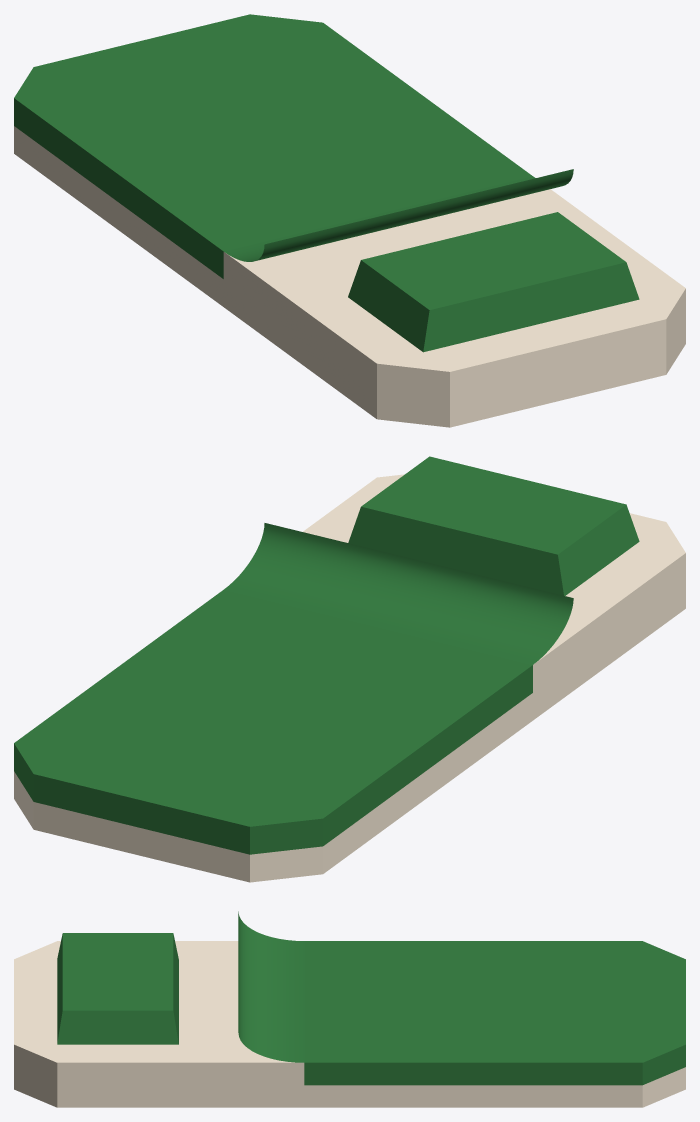
File: bed_floor.glb
3 views of the same model, one above another, from view 1: azimuth 30°, elevation 25°; view 2: azimuth 150°, elevation 25°; view 3: azimuth 270°, elevation 25° (orthographic). The views are drawn at different scales.
Parts seen in each view (by area): view 1: bed_floor; view 2: bed_floor; view 3: bed_floor.
Boxes of the visible parts, <box> form: bed_floor: <box>14,14,685,427</box>; bed_floor: <box>14,456,685,882</box>; bed_floor: <box>14,911,685,1107</box>.
Bounding box in the file's own units: 0.3203 × 0.0921 × 0.7473.
